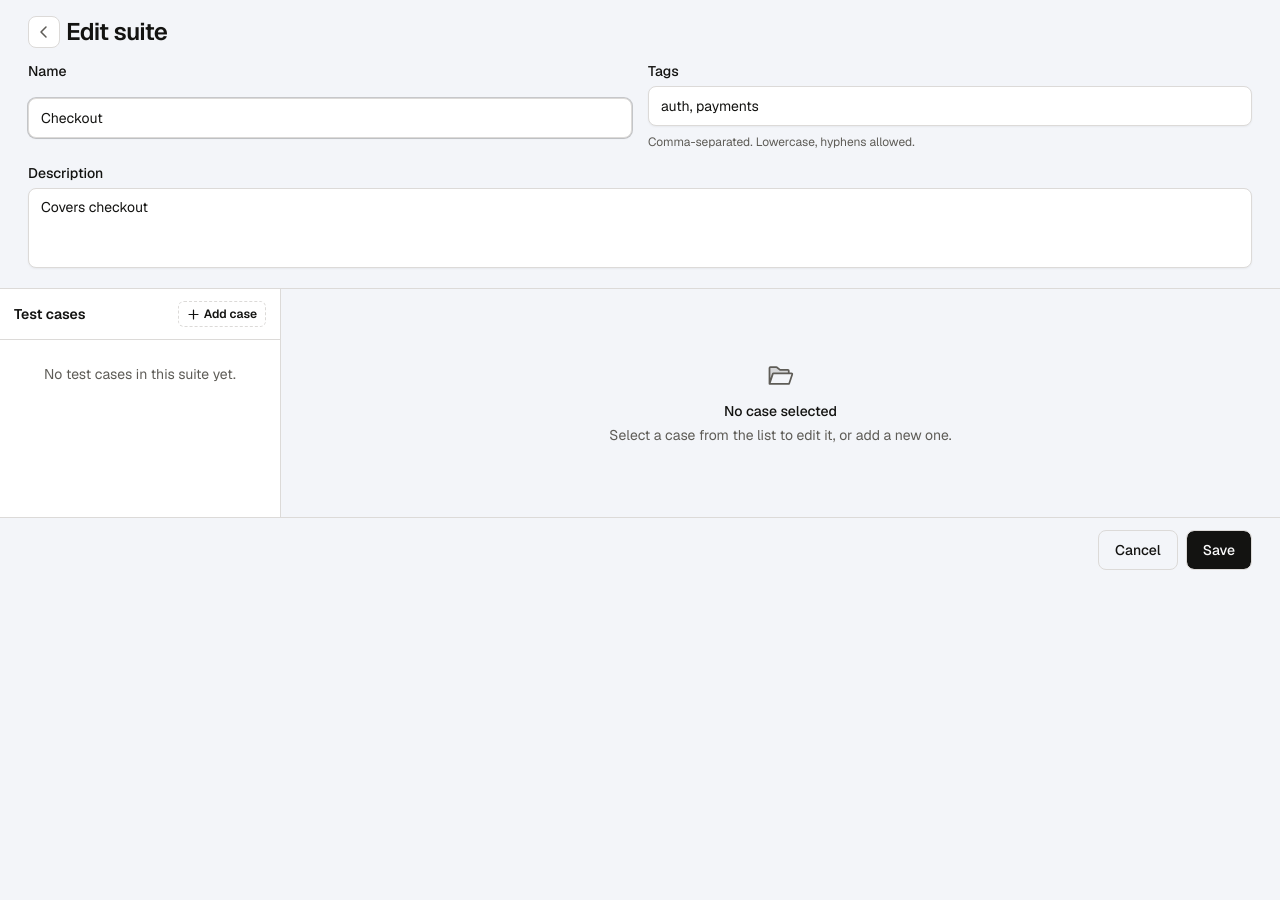
Test case: SuiteForm › inline case management › adding a case creates a draft and selects it
Click the button "Add case" at (222, 314), box [178,301,266,327]
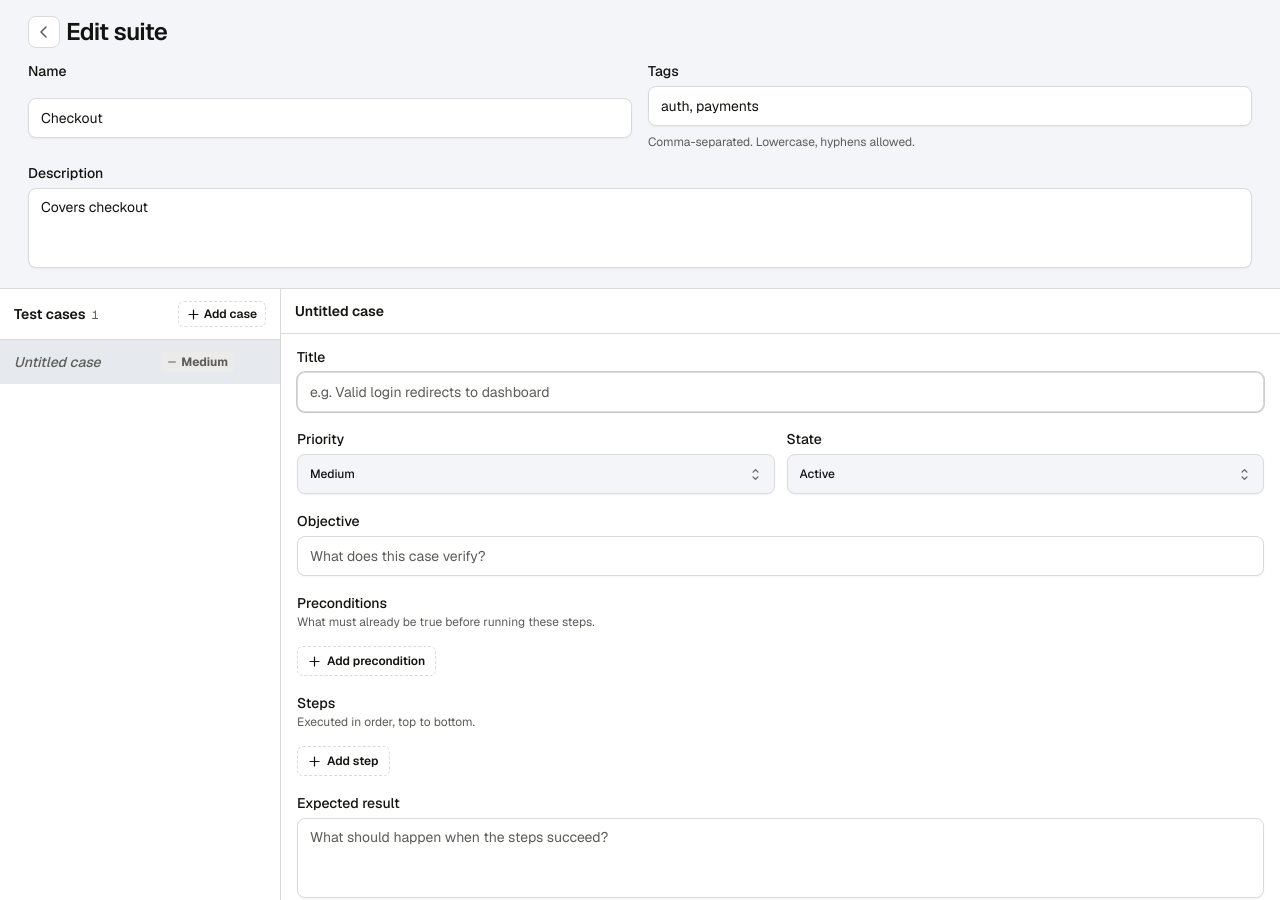
Result: the field labelled "Title" is empty at [297,372,1264,412]
Result: the heading "Untitled case" is shown at [295,301,384,321]
